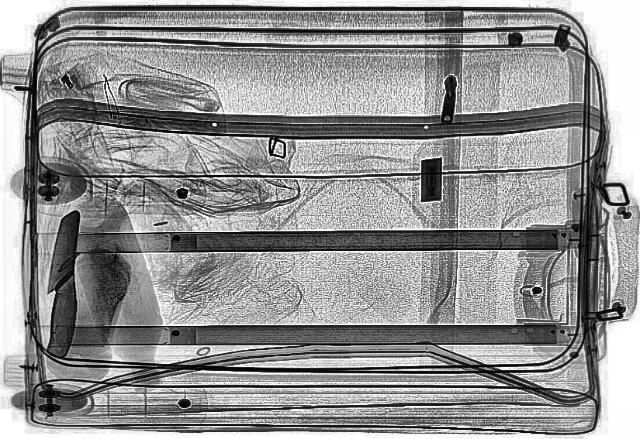Knife: (42, 210, 84, 358)
